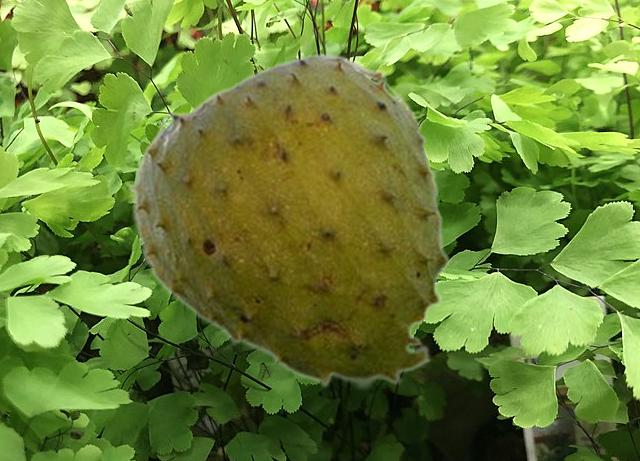guyabano: (126, 52, 450, 391)
